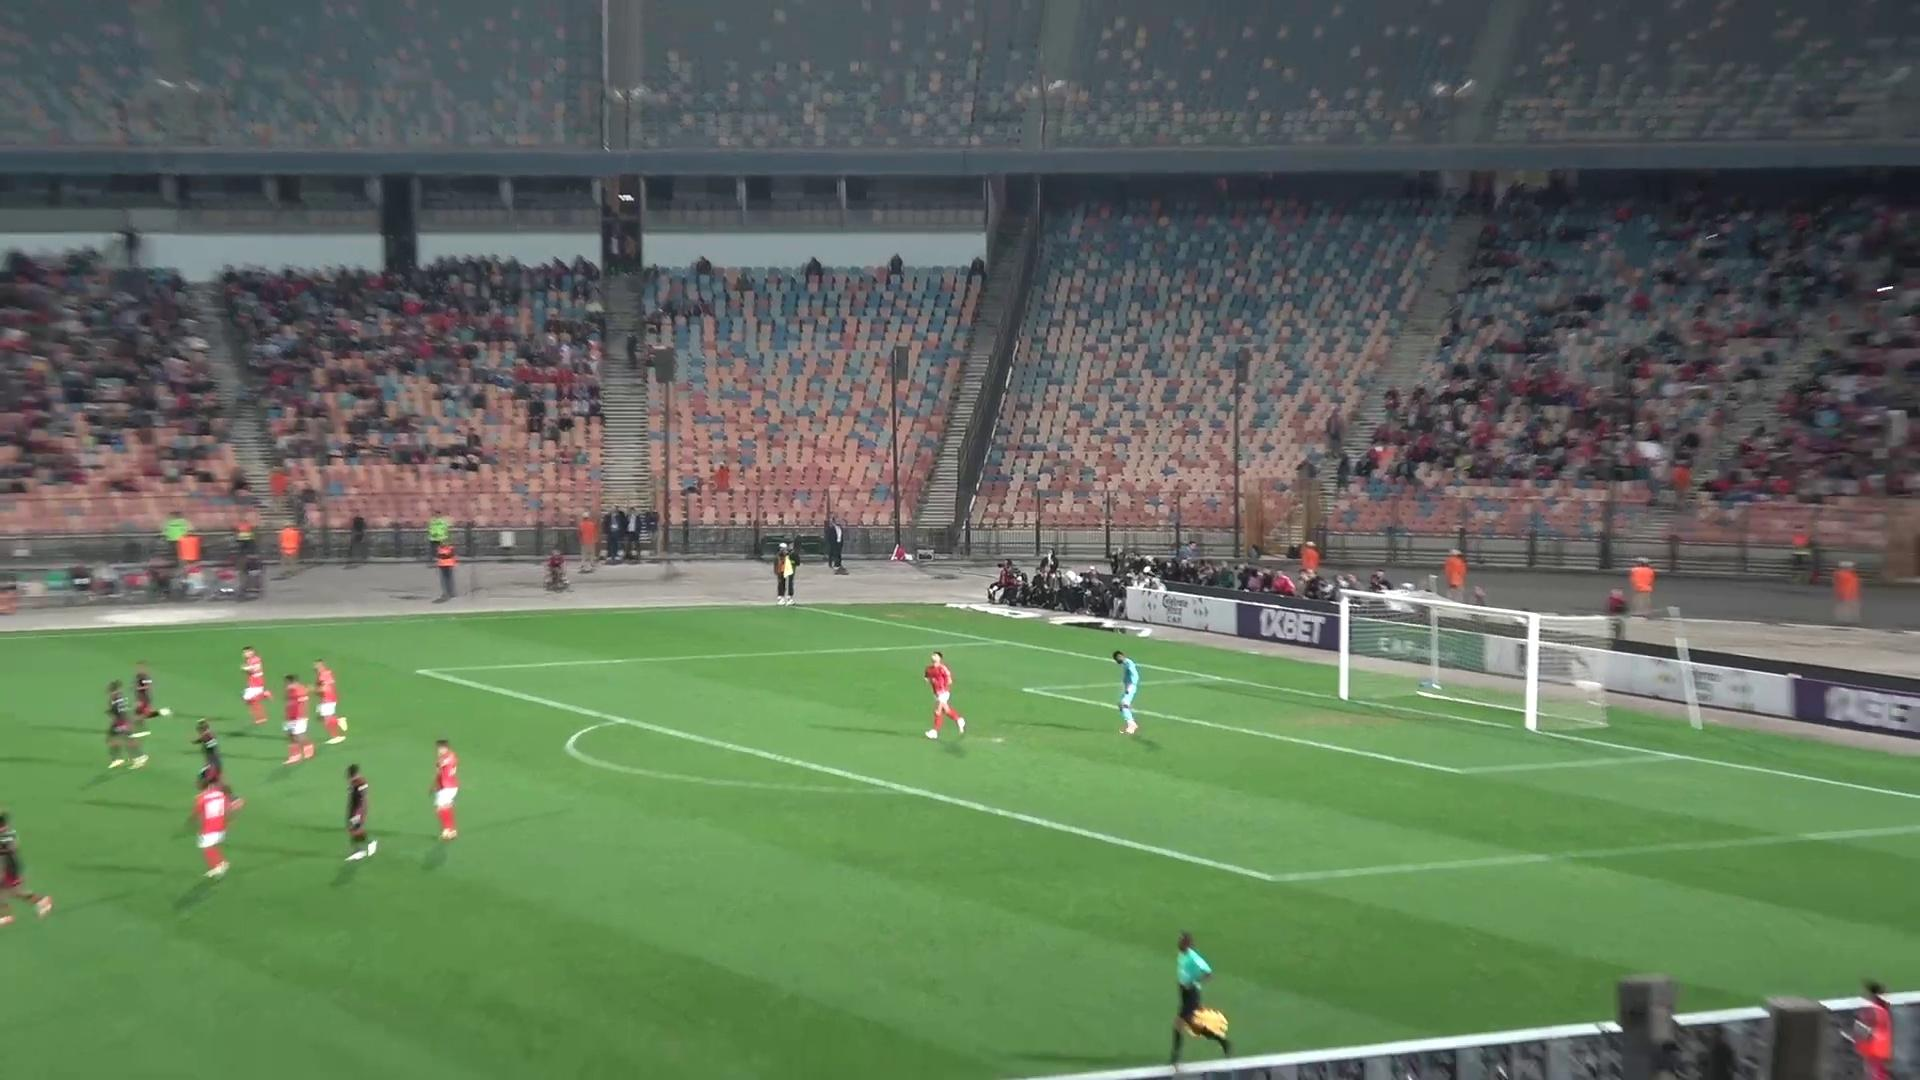GK2: (1110, 651, 1141, 735)
Refree: (1174, 932, 1230, 1054)
Team1: (191, 767, 244, 878), (924, 651, 965, 738), (429, 738, 459, 844), (281, 675, 315, 767), (311, 661, 348, 742), (241, 646, 273, 725)
Team2: (0, 811, 53, 924), (193, 717, 244, 804), (105, 680, 146, 770), (125, 663, 173, 738), (344, 764, 378, 862)
